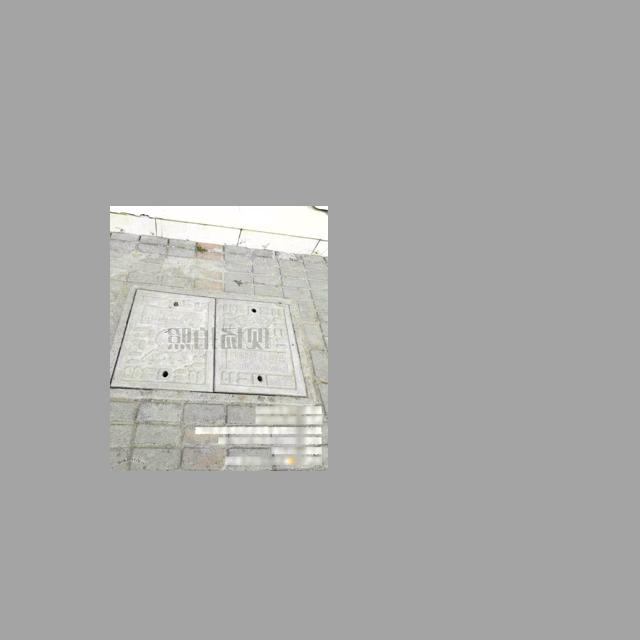good: (110, 285, 310, 404)
